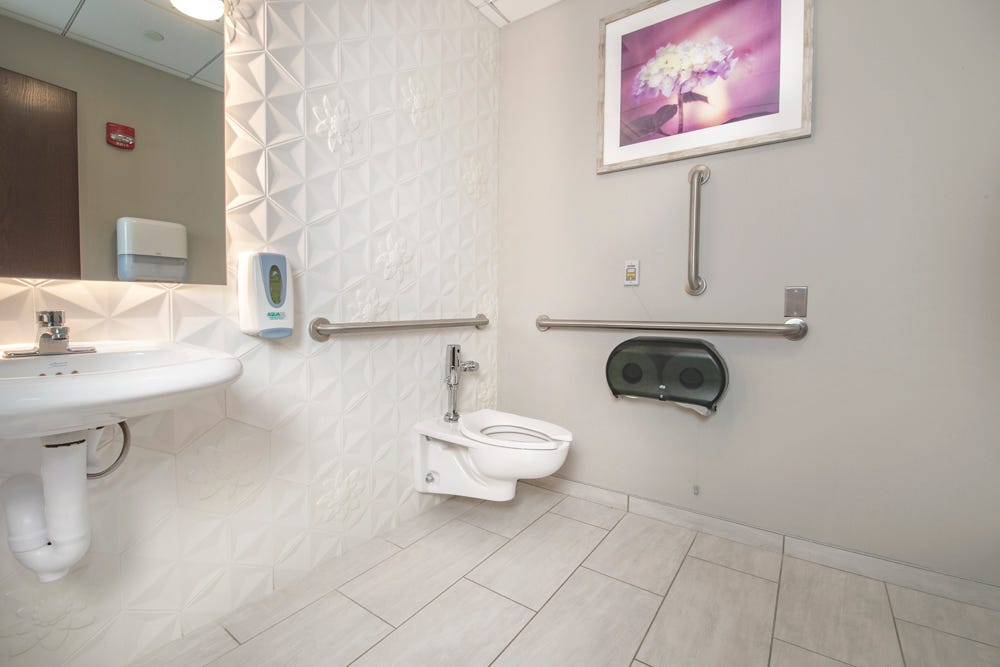dispenser: (604, 327, 733, 411), (240, 243, 299, 345), (116, 215, 196, 278)
faucet: (31, 305, 78, 352)
restroom_assist_bar: (528, 309, 812, 345), (308, 312, 490, 344), (683, 163, 711, 297)
sink: (1, 353, 256, 450)
toilet: (428, 403, 570, 523)
